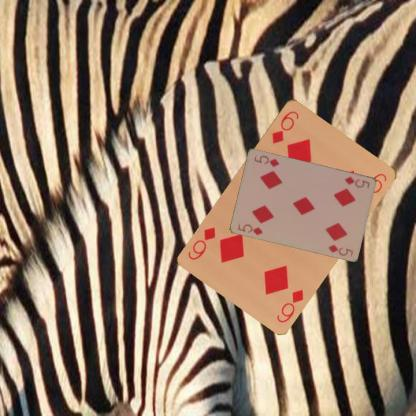5d: (342, 174, 371, 190), (235, 221, 264, 237)
6d: (268, 107, 300, 145), (274, 286, 305, 324)
